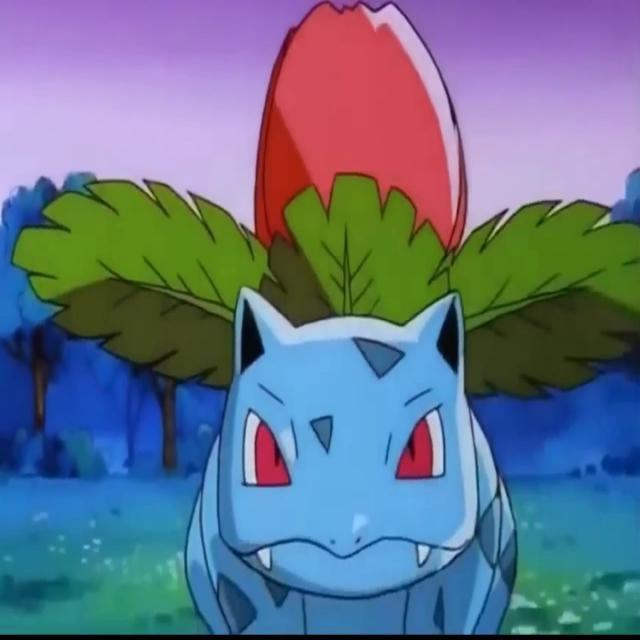Ivysaur: (178, 1, 520, 640)
